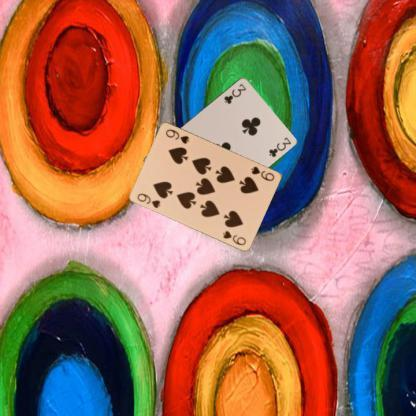3c: (222, 80, 248, 106)
9s: (134, 191, 162, 210), (248, 164, 277, 182)
